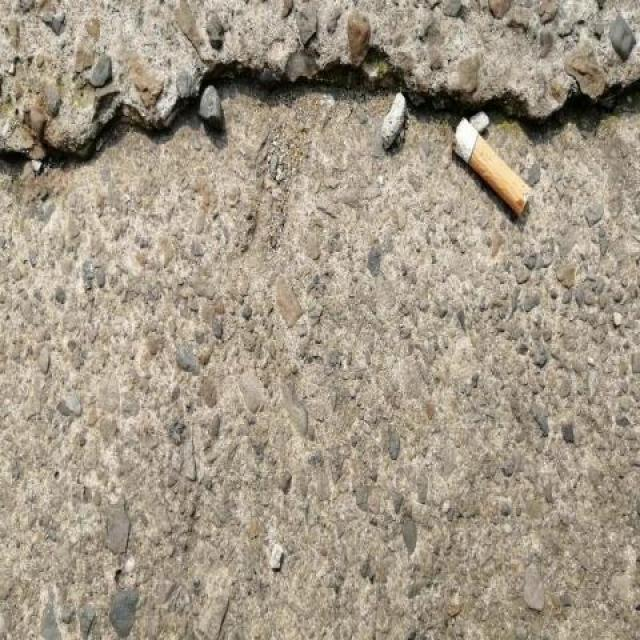non-organic waste: (446, 115, 534, 222)
